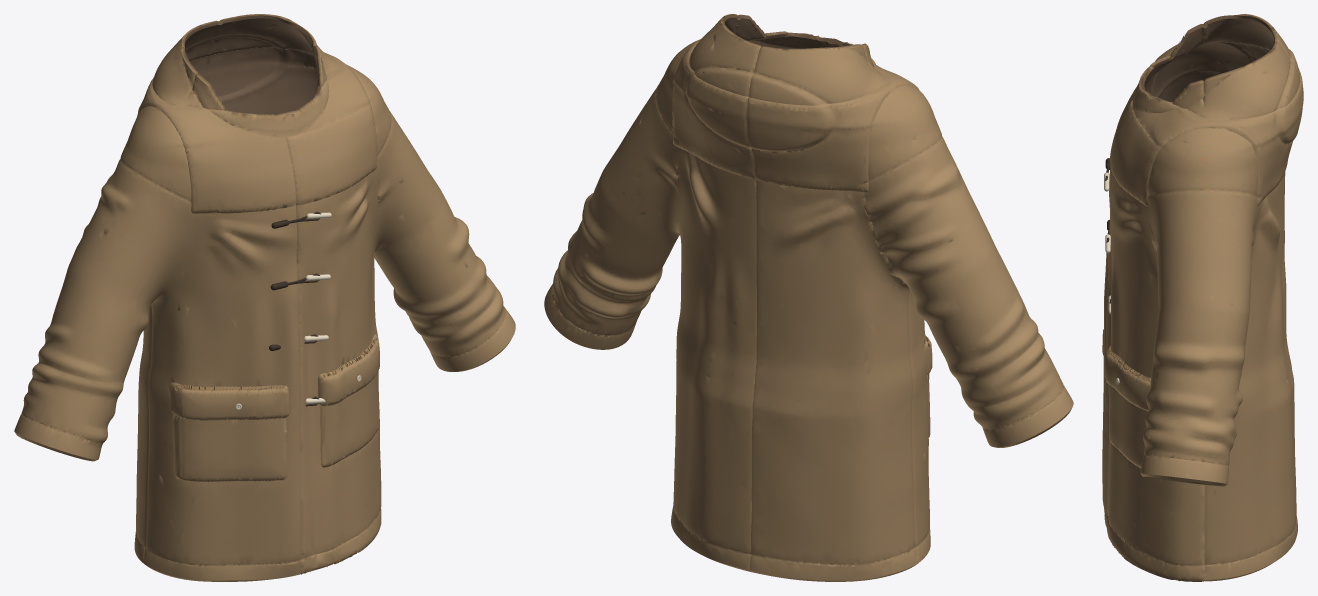
File: 06_trenca_pbr.glb
3 views of the same model, side by side, from view 1: azimuth 30°, elevation 25°; view 2: azimuth 150°, elevation 25°; view 3: azimuth 270°, elevation 25° (orthographic). The views are drawn at different scales.
Parts seen in each view (by area): view 1: Camiseta PBR, Cordones y adornos; view 2: Camiseta PBR; view 3: Camiseta PBR, Botones.
Boxes of the visible parts, bbox=[...] form: Camiseta PBR: bbox=[14, 14, 515, 581]; Cordones y adornos: bbox=[269, 211, 320, 406]; Camiseta PBR: bbox=[544, 14, 1073, 581]; Camiseta PBR: bbox=[1102, 14, 1303, 581]; Botones: bbox=[1104, 172, 1119, 384].
Bounding box in the file's own units: 1.07 × 1.04 × 0.3859.
Materials: 3 (1 with a texture image).
